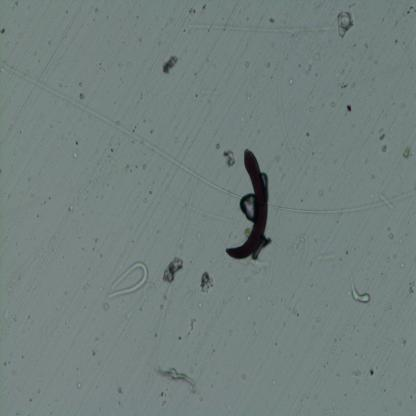Air bubble: (238, 192, 255, 223)
Background material: (154, 358, 196, 394), (162, 256, 186, 285), (344, 362, 366, 388), (336, 9, 354, 36), (312, 245, 340, 262), (158, 282, 175, 307), (199, 269, 213, 293), (222, 148, 238, 168), (164, 56, 180, 75), (376, 132, 388, 154), (155, 388, 168, 408), (92, 59, 108, 74), (98, 298, 113, 314), (401, 2, 416, 18), (302, 126, 312, 143), (366, 81, 377, 96), (72, 376, 83, 391), (313, 0, 329, 10), (304, 64, 316, 77), (284, 307, 300, 316), (87, 346, 98, 359), (402, 144, 411, 158), (10, 0, 21, 11), (348, 0, 360, 10), (196, 2, 208, 12), (384, 230, 396, 240), (396, 257, 406, 269), (188, 318, 197, 331), (274, 152, 282, 166), (124, 160, 134, 171), (245, 90, 254, 102), (95, 331, 105, 341), (140, 160, 150, 170), (314, 187, 324, 197), (214, 140, 222, 152), (344, 101, 352, 113), (114, 384, 124, 393), (410, 280, 416, 295), (81, 280, 90, 290), (138, 88, 144, 103), (307, 104, 316, 114), (172, 134, 179, 146), (136, 35, 144, 45), (338, 82, 348, 90), (71, 152, 81, 160), (189, 6, 195, 19), (73, 136, 79, 148), (192, 69, 200, 78), (139, 115, 147, 124), (68, 202, 74, 214), (131, 123, 138, 133), (46, 34, 53, 44), (368, 368, 375, 378), (0, 26, 6, 37), (369, 173, 377, 181), (393, 36, 401, 44), (265, 61, 272, 70), (314, 51, 320, 61), (350, 41, 358, 48), (78, 92, 85, 100), (63, 7, 69, 16), (197, 232, 202, 242), (349, 81, 356, 88), (244, 61, 250, 69), (363, 40, 369, 48), (114, 400, 122, 406), (109, 146, 115, 154), (288, 77, 294, 85), (198, 300, 204, 308), (116, 62, 124, 68), (268, 18, 275, 24), (27, 395, 33, 402), (329, 102, 336, 108), (94, 6, 100, 13), (143, 196, 148, 204), (402, 337, 407, 345), (149, 130, 154, 138), (34, 213, 40, 219), (157, 40, 163, 46), (36, 387, 42, 393), (247, 293, 251, 302), (94, 236, 99, 243), (350, 122, 355, 128), (374, 60, 379, 66), (182, 28, 187, 34), (78, 82, 83, 88), (27, 176, 32, 182), (148, 190, 153, 195), (177, 335, 181, 341), (154, 332, 158, 338), (98, 254, 103, 258), (368, 55, 372, 59), (196, 92, 198, 98), (136, 15, 138, 19)
Glass filter fibre: (0, 56, 241, 201), (268, 190, 416, 218), (186, 21, 338, 33), (107, 261, 149, 299), (291, 231, 310, 266), (349, 281, 372, 302), (378, 192, 394, 212)
Microfibre: (225, 149, 273, 261)
